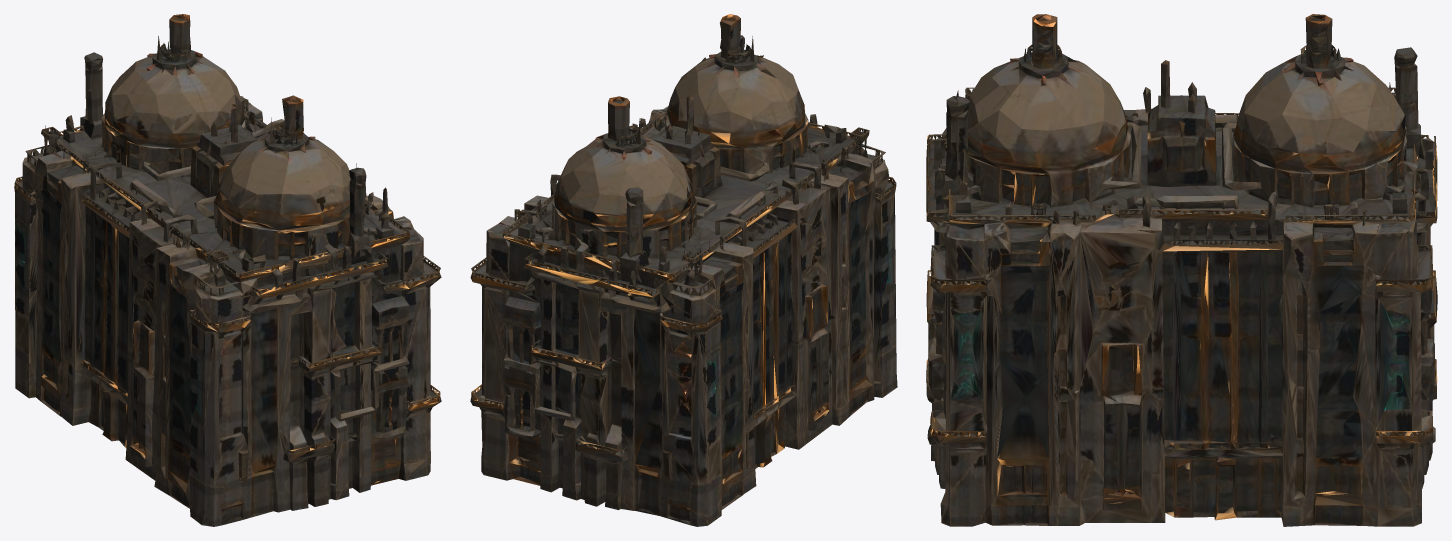
3 renders of one model, left to right at view 1: azimuth 30°, elevation 25°; view 2: azimuth 150°, elevation 25°; view 3: azimuth 270°, elevation 25°, orthographic. The views are drawn at different scales.
Visible parts, largest first — view 1: f02; view 2: f02; view 3: f02.
Part boxes in pixels (left/top/right/bottom): f02: left=14, top=14, right=441, bottom=526; f02: left=470, top=14, right=897, bottom=526; f02: left=926, top=14, right=1437, bottom=526.
Size of the model in its own units: 29.37 by 44 by 45.25.
1 material, 1 textured.
